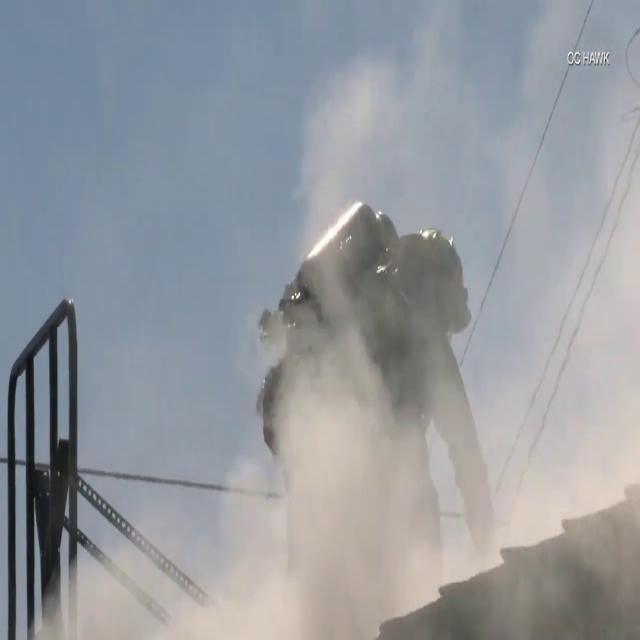Smoke: (180, 133, 580, 640)
